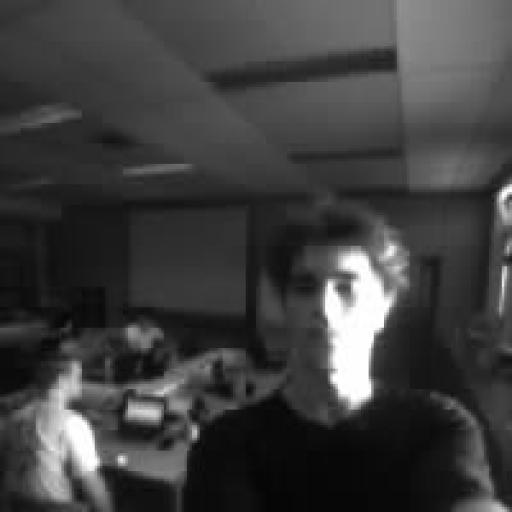human: (182, 198, 504, 511), (0, 351, 112, 511), (113, 313, 176, 381)
